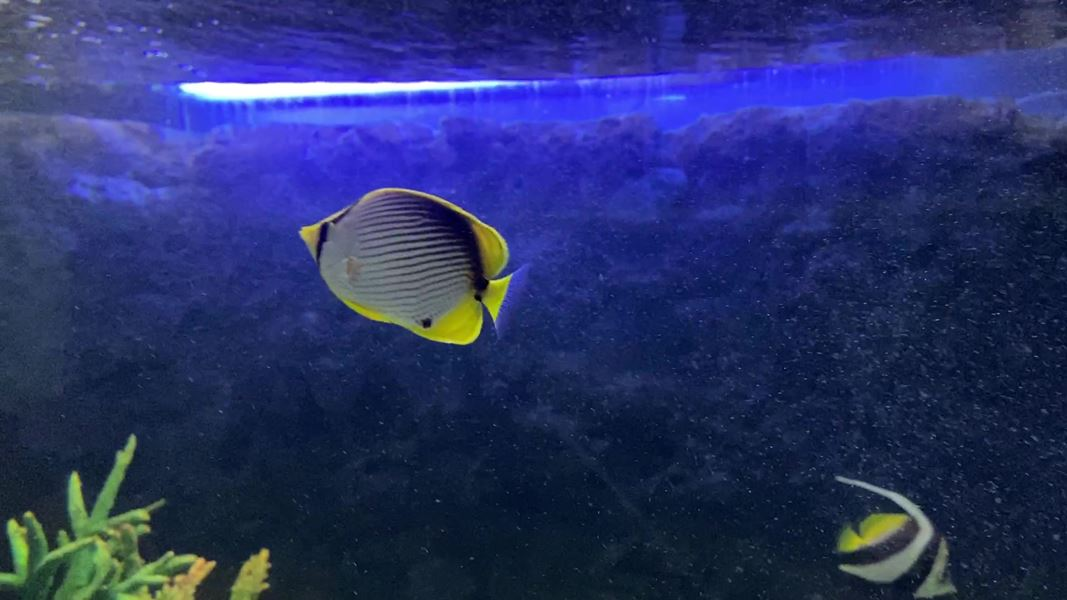Black-backed butterflyfish: (287, 178, 543, 357)
